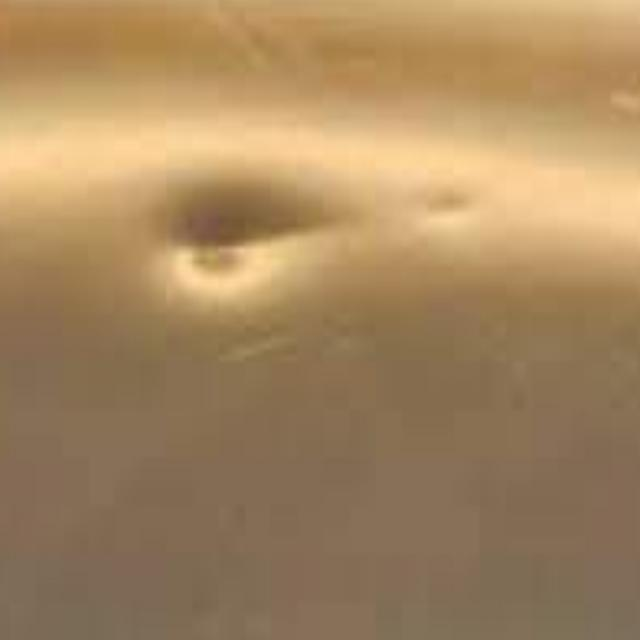dents: (149, 145, 361, 359), (415, 179, 490, 261)
